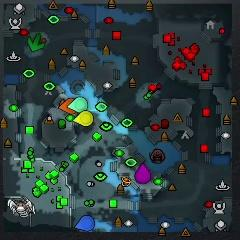p1: (75, 214, 95, 231)
p2: (68, 97, 87, 112)
p3: (135, 164, 150, 184)
p4: (73, 111, 92, 127)
p5: (59, 98, 76, 114)
x4: (27, 34, 44, 51)
